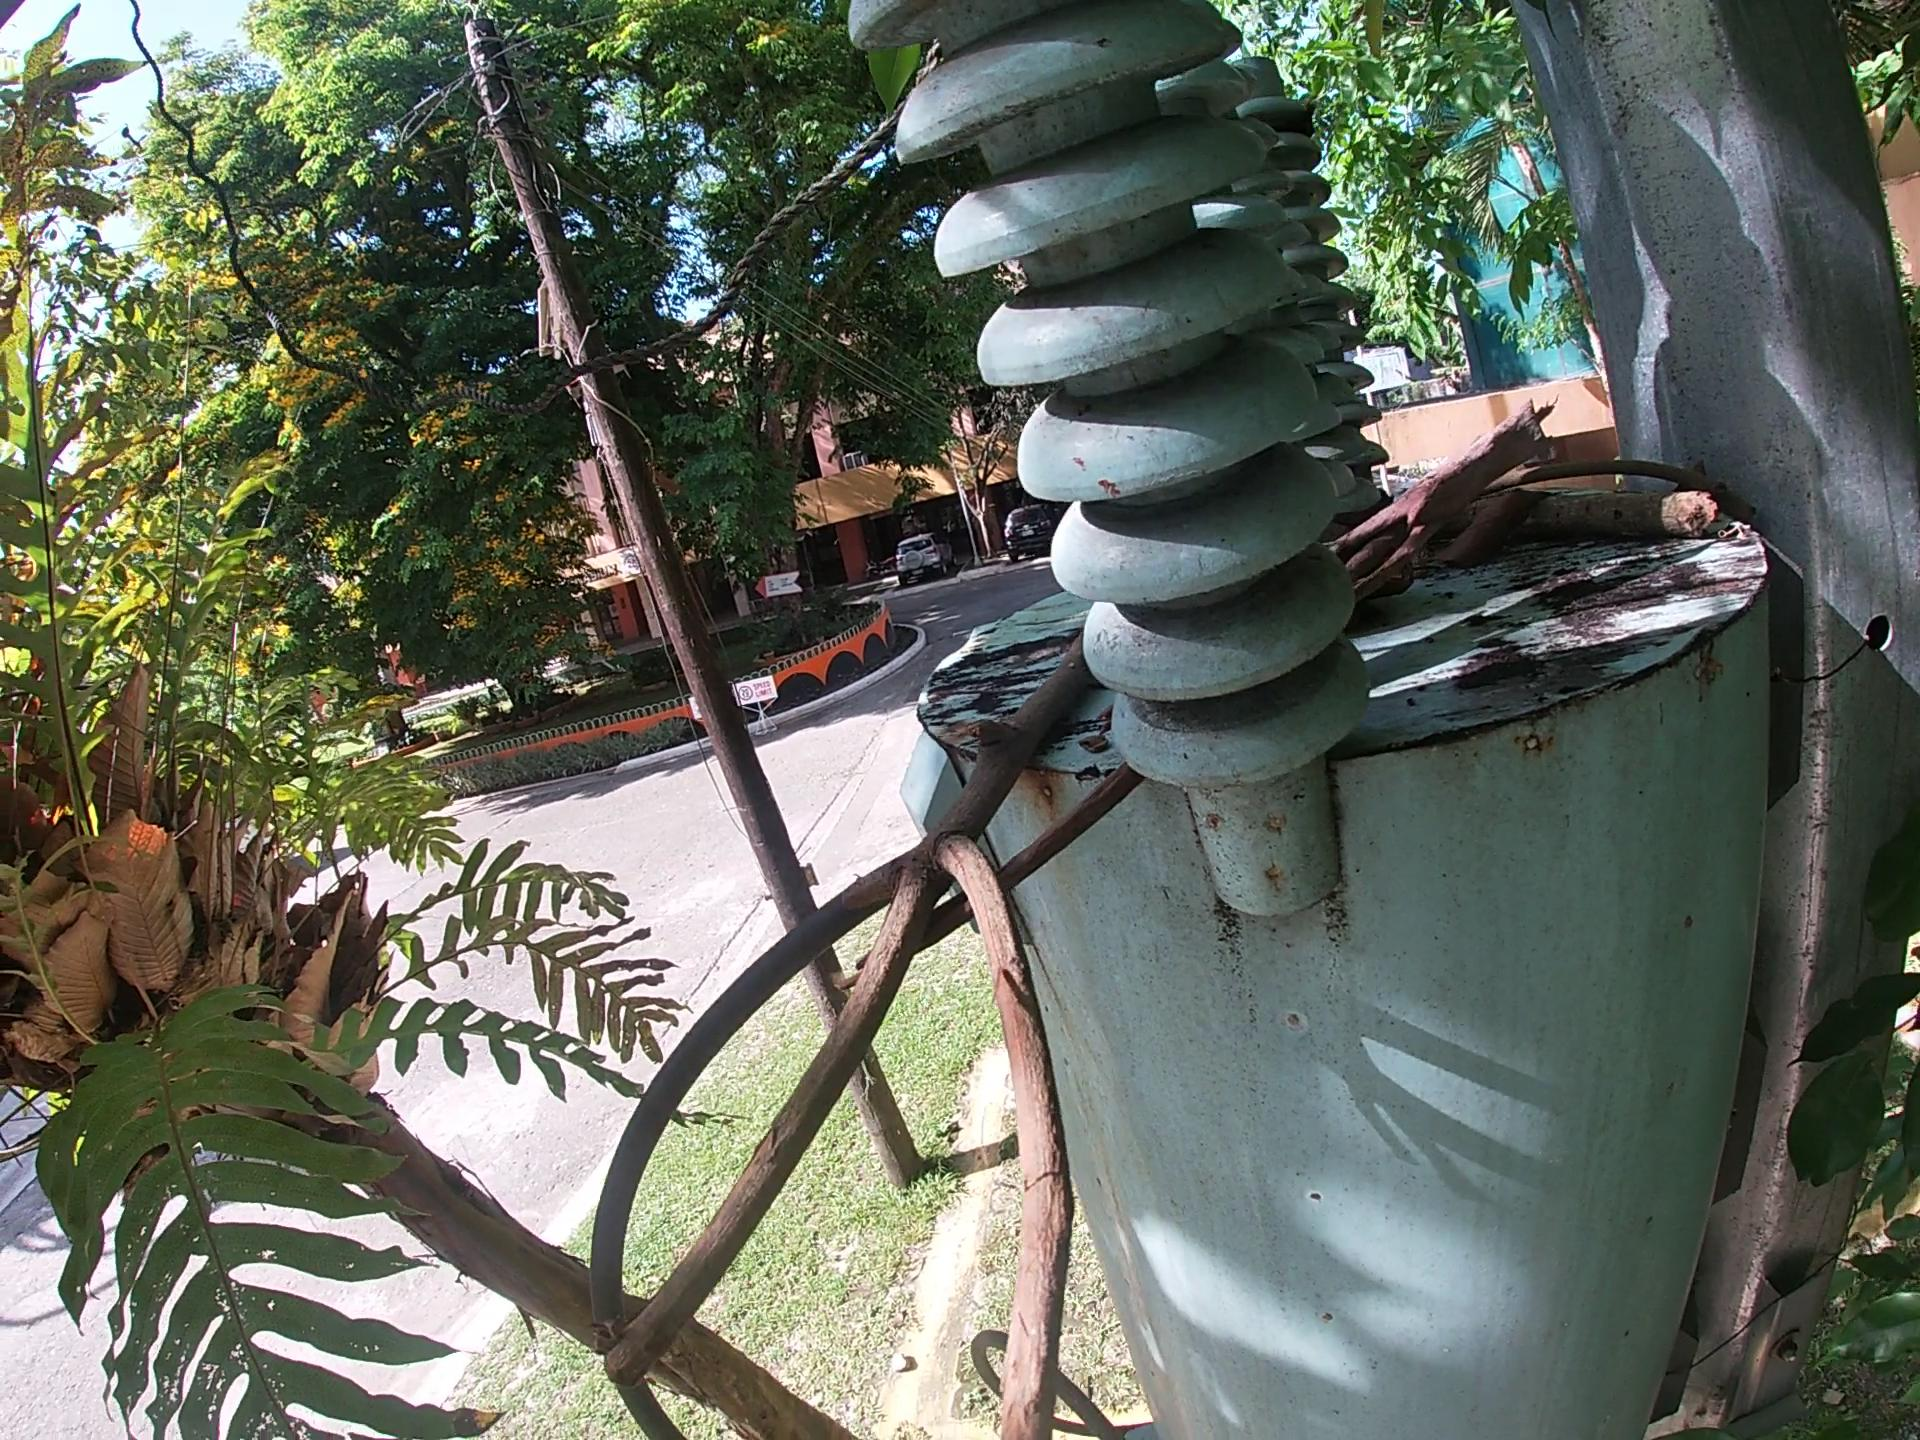leaf: (1418, 484, 1556, 575)
tree branch: (593, 599, 1095, 1438), (841, 756, 1150, 992), (1333, 392, 1569, 613), (1506, 455, 1770, 510), (1531, 484, 1723, 542)
